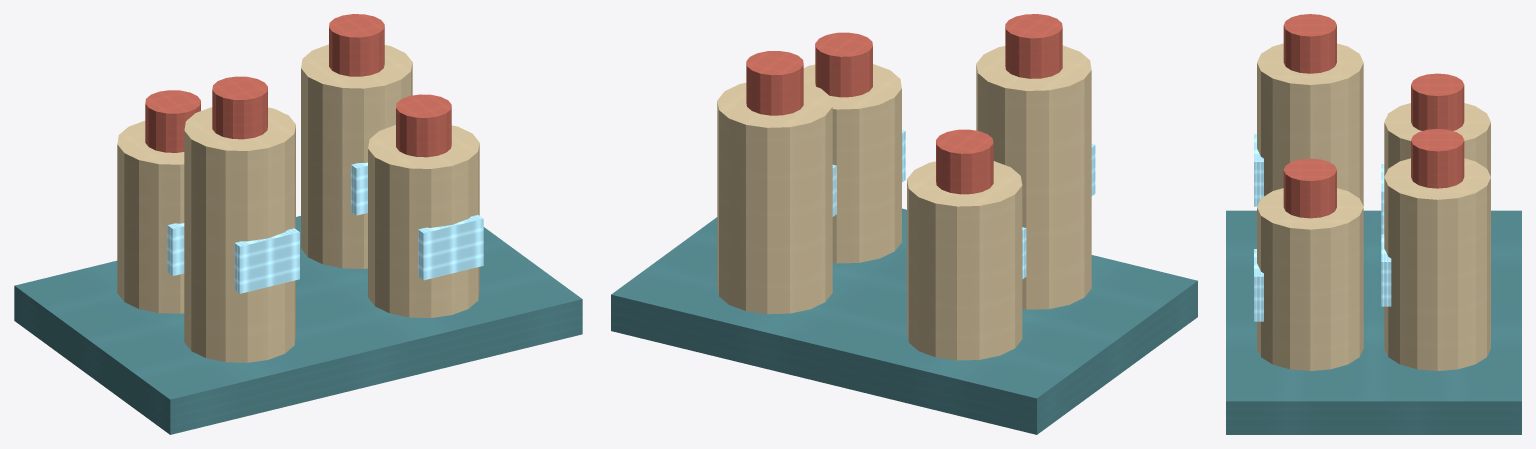
File: atlas100-s073-a04.glb
3 renders of one model, left to right at view 1: azimuth 30°, elevation 25°; view 2: azimuth 150°, elevation 25°; view 3: azimuth 270°, elevation 25°, orthographic. The views are drawn at different scales.
Parts seen in each view (by area): view 1: atlas100-s073-a04:part-000, atlas100-s073-a04:part-007, atlas100-s073-a04:part-010, atlas100-s073-a04:part-004, atlas100-s073-a04:part-001, atlas100-s073-a04:part-009, atlas100-s073-a04:part-012, atlas100-s073-a04:part-008, atlas100-s073-a04:part-011, atlas100-s073-a04:part-005, atlas100-s073-a04:part-002, atlas100-s073-a04:part-003 (+1 smaller); view 2: atlas100-s073-a04:part-000, atlas100-s073-a04:part-004, atlas100-s073-a04:part-007, atlas100-s073-a04:part-001, atlas100-s073-a04:part-010, atlas100-s073-a04:part-002, atlas100-s073-a04:part-005, atlas100-s073-a04:part-008, atlas100-s073-a04:part-011; view 3: atlas100-s073-a04:part-000, atlas100-s073-a04:part-004, atlas100-s073-a04:part-010, atlas100-s073-a04:part-007, atlas100-s073-a04:part-001, atlas100-s073-a04:part-008, atlas100-s073-a04:part-011, atlas100-s073-a04:part-005, atlas100-s073-a04:part-002, atlas100-s073-a04:part-006, atlas100-s073-a04:part-012, atlas100-s073-a04:part-009.
Part boxes in pixels (box(x1,y1,x2,y2)): atlas100-s073-a04:part-000: box(14, 216, 582, 434); atlas100-s073-a04:part-007: box(184, 107, 295, 362); atlas100-s073-a04:part-010: box(368, 125, 479, 317); atlas100-s073-a04:part-004: box(301, 44, 412, 268); atlas100-s073-a04:part-001: box(117, 120, 184, 313); atlas100-s073-a04:part-009: box(234, 228, 299, 293); atlas100-s073-a04:part-012: box(418, 215, 483, 280); atlas100-s073-a04:part-008: box(212, 76, 267, 139); atlas100-s073-a04:part-011: box(396, 94, 451, 157); atlas100-s073-a04:part-005: box(329, 14, 384, 76); atlas100-s073-a04:part-002: box(145, 90, 200, 152); atlas100-s073-a04:part-003: box(167, 223, 184, 275); atlas100-s073-a04:part-000: box(611, 208, 1197, 434); atlas100-s073-a04:part-004: box(717, 82, 832, 314); atlas100-s073-a04:part-007: box(976, 45, 1091, 309); atlas100-s073-a04:part-001: box(907, 161, 1022, 360); atlas100-s073-a04:part-010: box(803, 64, 901, 263); atlas100-s073-a04:part-002: box(936, 129, 993, 194); atlas100-s073-a04:part-005: box(746, 51, 803, 115); atlas100-s073-a04:part-008: box(1005, 14, 1062, 78); atlas100-s073-a04:part-011: box(815, 32, 872, 97); atlas100-s073-a04:part-000: box(1226, 210, 1521, 434); atlas100-s073-a04:part-004: box(1384, 158, 1490, 370); atlas100-s073-a04:part-010: box(1257, 188, 1363, 370); atlas100-s073-a04:part-007: box(1257, 43, 1363, 206); atlas100-s073-a04:part-001: box(1384, 103, 1490, 176); atlas100-s073-a04:part-008: box(1283, 14, 1336, 73); atlas100-s073-a04:part-011: box(1283, 158, 1336, 218); atlas100-s073-a04:part-005: box(1411, 129, 1464, 188); atlas100-s073-a04:part-002: box(1411, 73, 1464, 130); atlas100-s073-a04:part-006: box(1381, 234, 1391, 306); atlas100-s073-a04:part-012: box(1254, 249, 1263, 321); atlas100-s073-a04:part-009: box(1254, 134, 1263, 206).
Bounding box in the file's own units: 1.18 × 0.7804 × 0.7697.
Materials: 4 (4 with a texture image).
